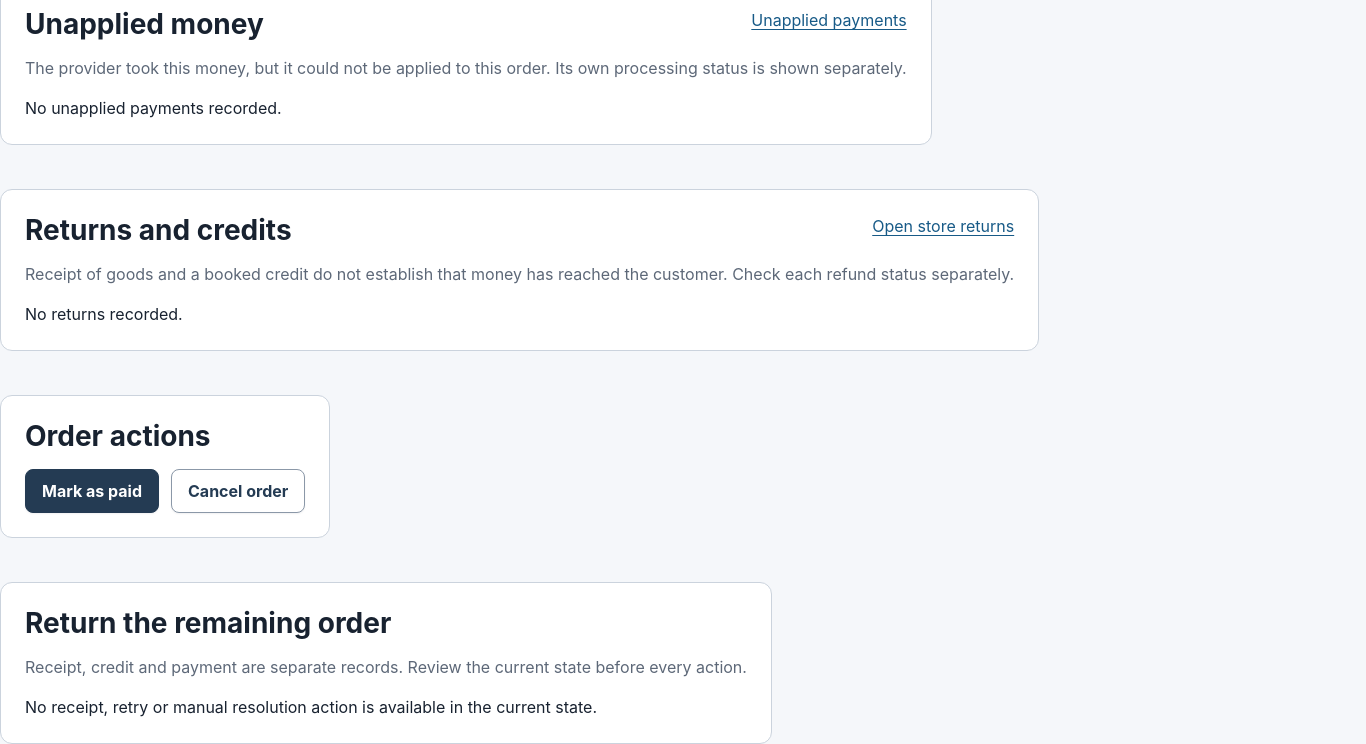
Test: routed order details › reconciles a gateway 409 and never offers a write retry as a read recovery
The image size is (1366, 744).
(page scrolled)
Click the button "Mark as paid" at (92, 490), box [25,468,159,512]
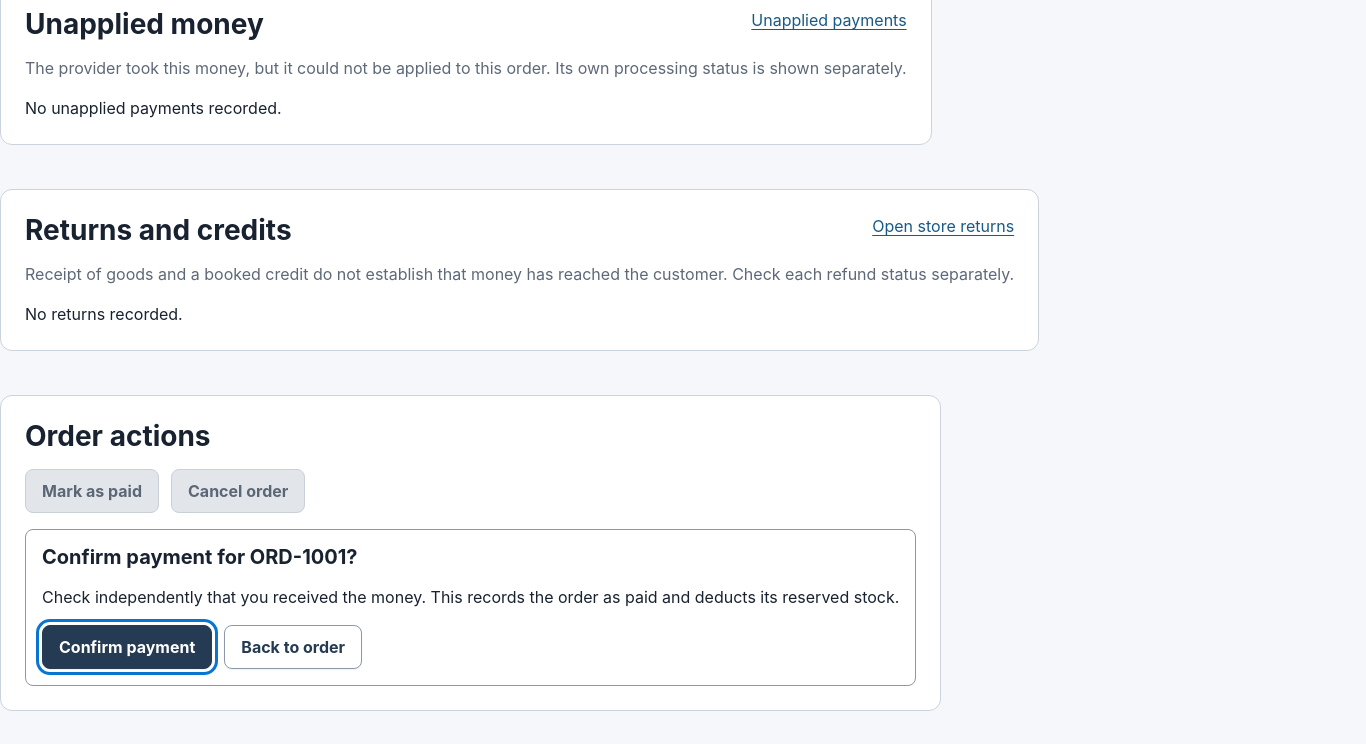
Click the button "Confirm payment" at (127, 646), box [42,624,212,668]
(page scrolled)
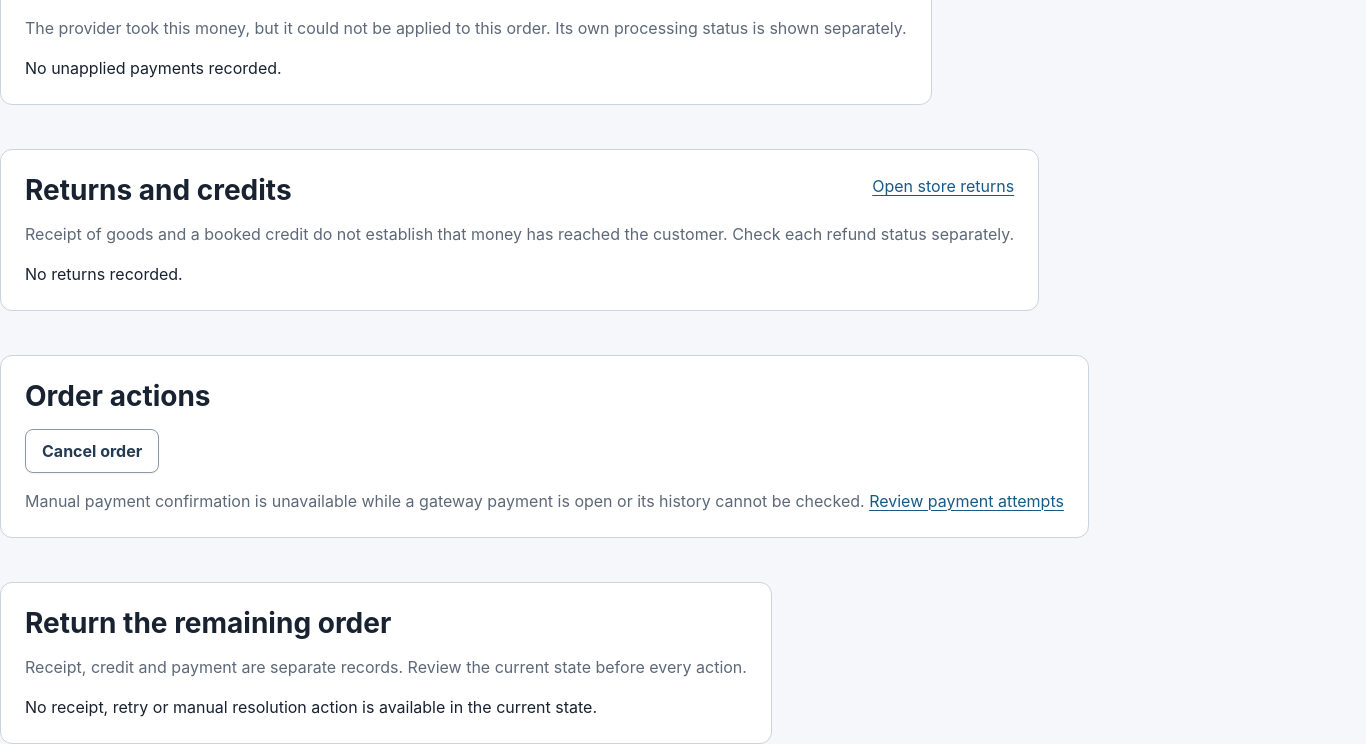
Expected: the button "Mark as paid" is gone
